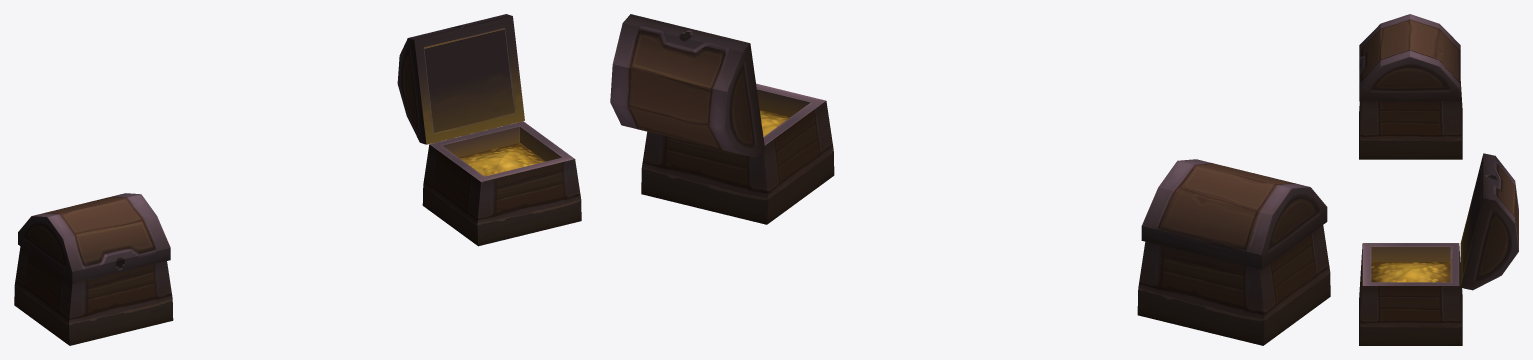
The picture shows the model from 3 angles, left to right: view 1: azimuth 30°, elevation 25°; view 2: azimuth 150°, elevation 25°; view 3: azimuth 270°, elevation 25°; orthographic projection. The views are drawn at different scales.
Parts seen in each view (by area): view 1: Chest.002_Cube.006, Lid_Cube.001; view 2: Chest.002_Cube.006, Lid_Cube.001; view 3: Chest.002_Cube.006, Lid_Cube.001.
Part boxes in pixels (bbox=[...]): Chest.002_Cube.006: bbox=[397, 14, 581, 246]; Lid_Cube.001: bbox=[14, 193, 173, 345]; Chest.002_Cube.006: bbox=[610, 14, 834, 224]; Lid_Cube.001: bbox=[1137, 159, 1330, 345]; Chest.002_Cube.006: bbox=[1359, 153, 1518, 345]; Lid_Cube.001: bbox=[1359, 14, 1462, 159].
Bounding box in the file's own units: 1490 × 436 × 430.
